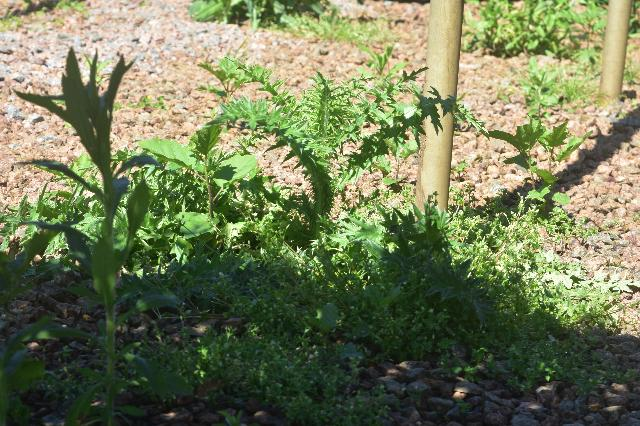MalezaMontesDelPlata: (8, 43, 182, 426), (207, 43, 480, 234), (188, 224, 434, 342), (442, 232, 622, 383), (176, 324, 392, 425), (493, 117, 600, 215), (470, 2, 606, 59), (516, 57, 591, 118)
